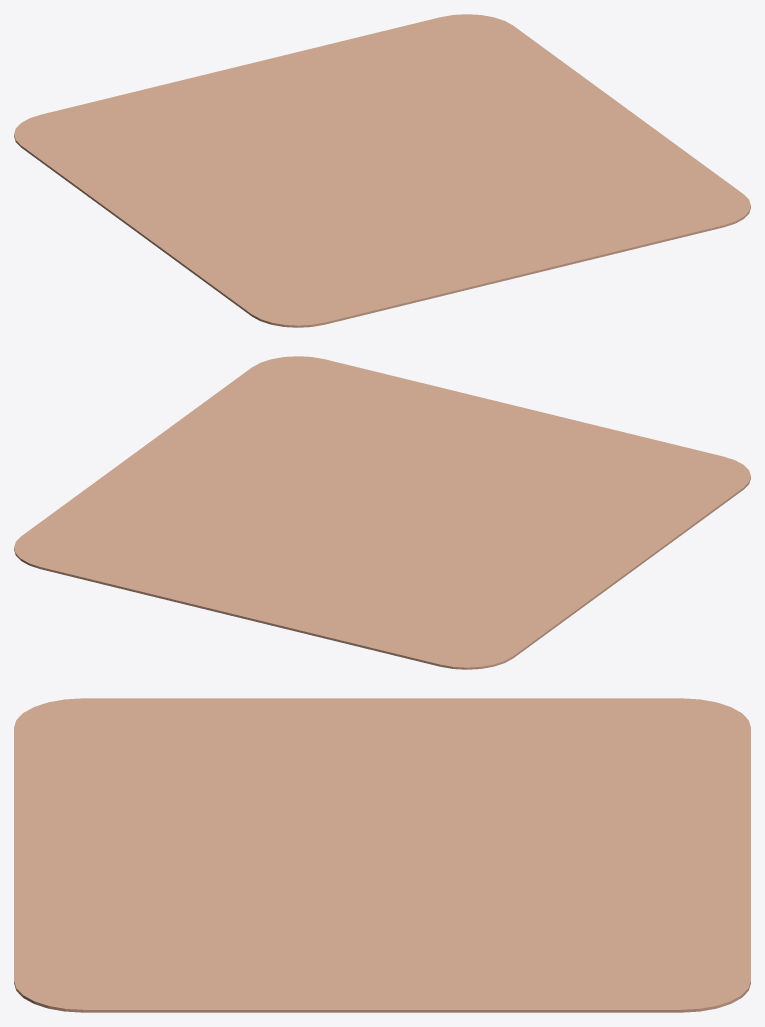
3 views of the same model, one above another, from view 1: azimuth 30°, elevation 25°; view 2: azimuth 150°, elevation 25°; view 3: azimuth 270°, elevation 25° (orthographic). The views are drawn at different scales.
Parts seen in each view (by area): view 1: COM-02 Floor Surface; view 2: COM-02 Floor Surface; view 3: COM-02 Floor Surface.
Part boxes in pixels (left/top/right/bottom): COM-02 Floor Surface: left=14, top=14, right=750, bottom=327; COM-02 Floor Surface: left=14, top=356, right=750, bottom=669; COM-02 Floor Surface: left=14, top=698, right=750, bottom=1012.
Size of the model in its own units: 1.92 by 0.008 by 1.92.
Materials: 1 (1 with a texture image).
